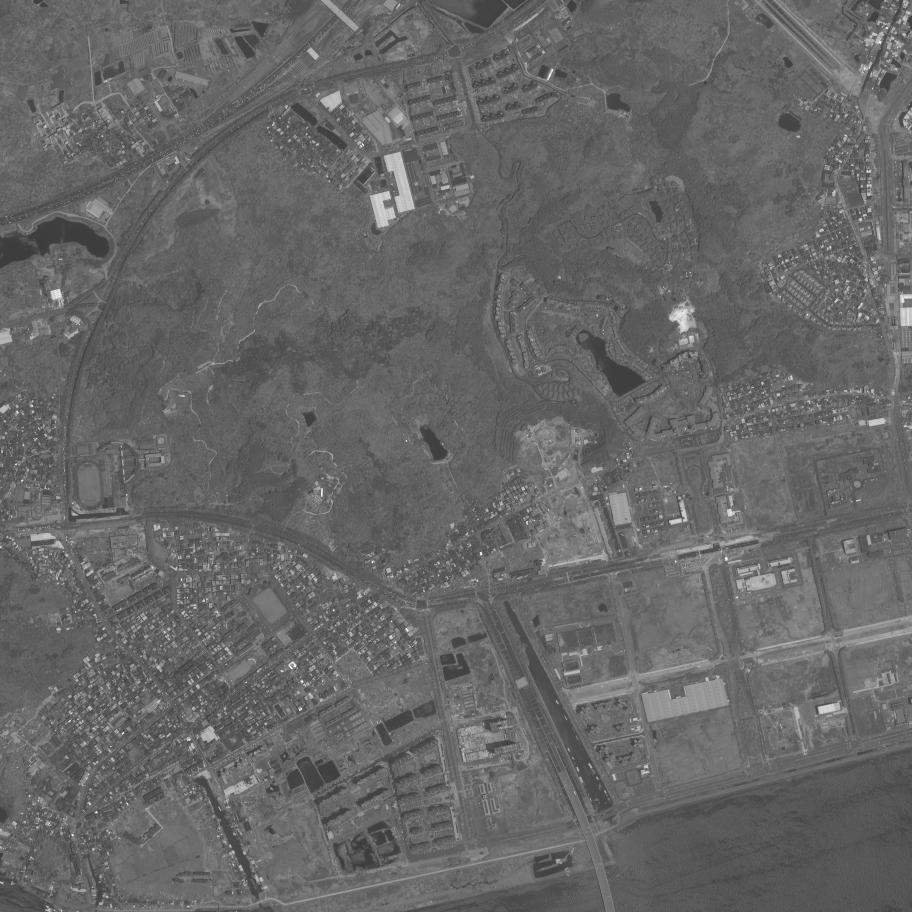ship: (603, 789, 610, 798), (554, 699, 561, 707), (606, 796, 612, 804), (574, 734, 580, 742), (571, 726, 577, 733), (571, 756, 575, 761), (567, 748, 571, 753)
